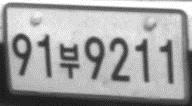1: (157, 37, 175, 86), (35, 33, 53, 78), (134, 38, 150, 83)
2: (108, 36, 131, 83)
9: (10, 32, 33, 76), (83, 35, 105, 80)
부: (58, 42, 80, 79)
